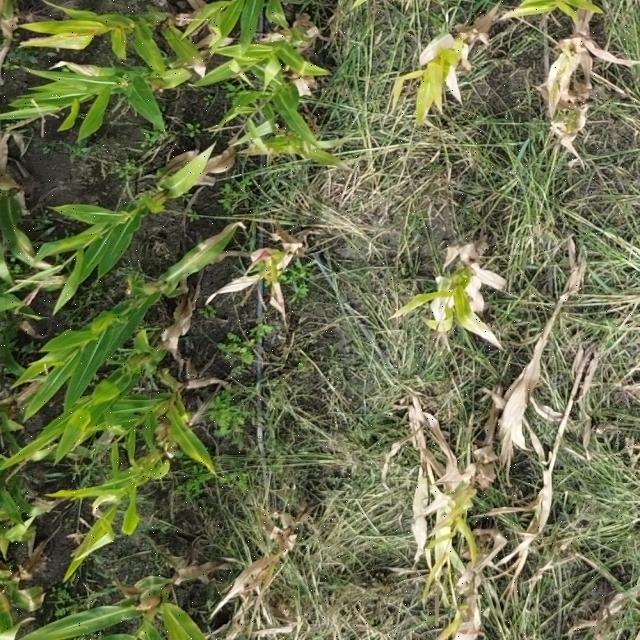northern-leaf-blight: (178, 226, 230, 264), (12, 230, 46, 269), (176, 37, 208, 71), (12, 588, 53, 610), (70, 61, 102, 80)
